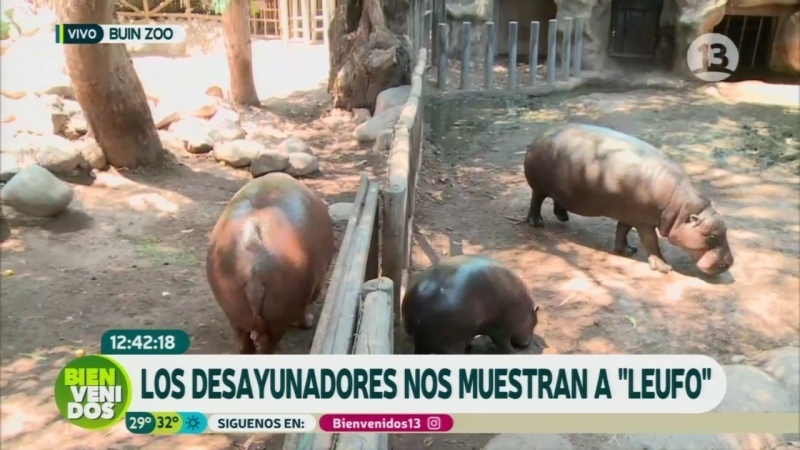hipopotamo: (507, 113, 746, 289), (186, 161, 339, 358), (398, 250, 547, 358)
